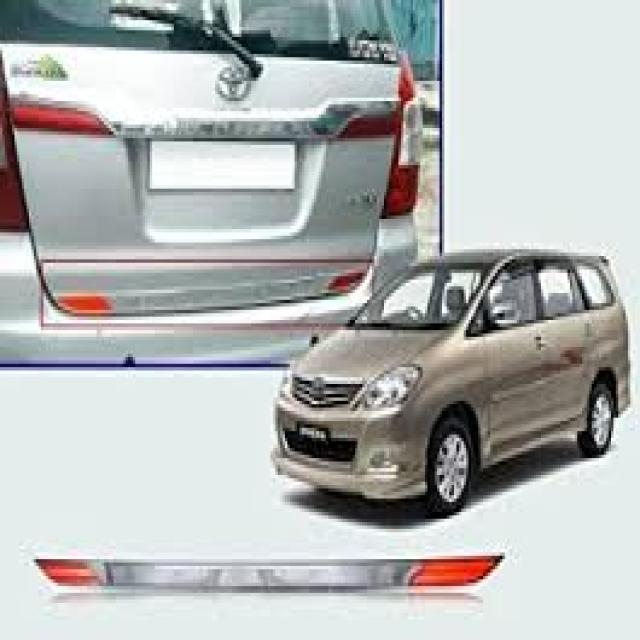light_vehicle: (0, 0, 424, 364), (272, 248, 630, 514)
